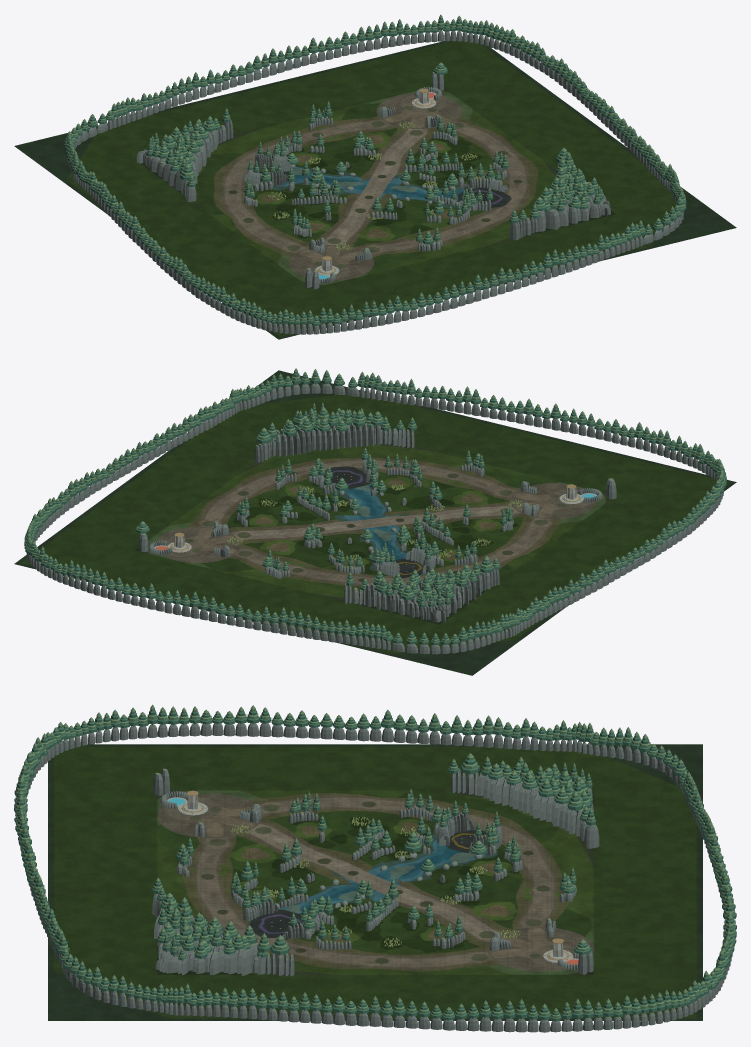
Rendered from esmo-rift.glb.
3 views of the same model, one above another, from view 1: azimuth 30°, elevation 25°; view 2: azimuth 150°, elevation 25°; view 3: azimuth 270°, elevation 25° (orthographic). The views are drawn at different scales.
Visible parts, largest first — view 1: Rift_Ground.005, Rift_rock_(0, 3).005, Rift_rock_(3, 0).005, Rift_rock_(2, 3).005, Rift_rock_(1, 1).005, Rift_rock_(1, 0).005, Rift_pine_(3, 0).005, Rift_pine_(0, 3).005, Rift_rock_(2, 2).005, Rift_leaf_(3, 0).005, Rift_rock_(1, 3).005, Rift_rock_(2, 0).005 (+27 smaller); view 2: Rift_Ground.005, Rift_rock_(2, 3).005, Rift_rock_(0, 0).005, Rift_rock_(1, 0).005, Rift_rock_(3, 2).005, Rift_pine_(0, 0).005, Rift_rock_(0, 1).005, Rift_leaf_(0, 0).005, Rift_rock_(0, 3).005, Rift_pine_(2, 3).005, Rift_rock_(3, 0).005, Rift_rock_(3, 3).005 (+33 smaller); view 3: Rift_Ground.005, Rift_rock_(3, 2).005, Rift_rock_(0, 1).005, Rift_rock_(3, 3).005, Rift_rock_(0, 3).005, Rift_rock_(3, 0).005, Rift_pine_(3, 3).005, Rift_pine_(3, 2).005, Rift_rock_(1, 1).005, Rift_rock_(2, 2).005, Rift_pine_(0, 1).005, Rift_pine_(3, 0).005 (+35 smaller).
Boxes of the visible parts, x1,y1,x2,y2 form: Rift_Ground.005: (14,34,736,339); Rift_rock_(0, 3).005: (195,268,401,334); Rift_rock_(3, 0).005: (349,31,554,99); Rift_rock_(2, 3).005: (510,200,620,289); Rift_rock_(1, 1).005: (244,143,355,206); Rift_rock_(1, 0).005: (130,77,237,166); Rift_pine_(3, 0).005: (350,19,555,74); Rift_pine_(0, 3).005: (192,280,402,325); Rift_rock_(2, 2).005: (390,162,508,224); Rift_leaf_(3, 0).005: (349,14,555,71); Rift_rock_(1, 3).005: (355,240,513,320); Rift_rock_(2, 0).005: (237,45,395,129); Rift_Ground.005: (14,370,736,675); Rift_rock_(2, 3).005: (327,392,515,450); Rift_rock_(0, 0).005: (363,588,530,654); Rift_rock_(1, 0).005: (235,581,422,646); Rift_rock_(3, 2).005: (136,413,327,467); Rift_pine_(0, 0).005: (361,576,533,644); Rift_rock_(0, 1).005: (431,568,614,624); Rift_leaf_(0, 0).005: (362,572,532,642); Rift_rock_(0, 3).005: (578,438,724,534); Rift_pine_(2, 3).005: (327,383,515,431); Rift_rock_(3, 0).005: (26,504,172,599); Rift_rock_(3, 3).005: (221,383,387,439); Rift_Ground.005: (48,744,702,1020); Rift_rock_(3, 2).005: (209,930,380,1026); Rift_rock_(0, 1).005: (370,728,538,815); Rift_rock_(3, 3).005: (55,939,212,1016); Rift_rock_(0, 3).005: (26,723,211,808); Rift_rock_(3, 0).005: (539,951,732,1032); Rift_pine_(3, 3).005: (51,923,214,1006); Rift_pine_(3, 2).005: (206,921,380,1013); Rift_rock_(1, 1).005: (376,807,522,882); Rift_rock_(2, 2).005: (231,878,377,949); Rift_pine_(0, 1).005: (370,715,538,789); Rift_pine_(3, 0).005: (538,935,736,1021).
Bounding box in the file's own units: 360 × 23.58 × 364.
Materials: 11 (1 with a texture image).
